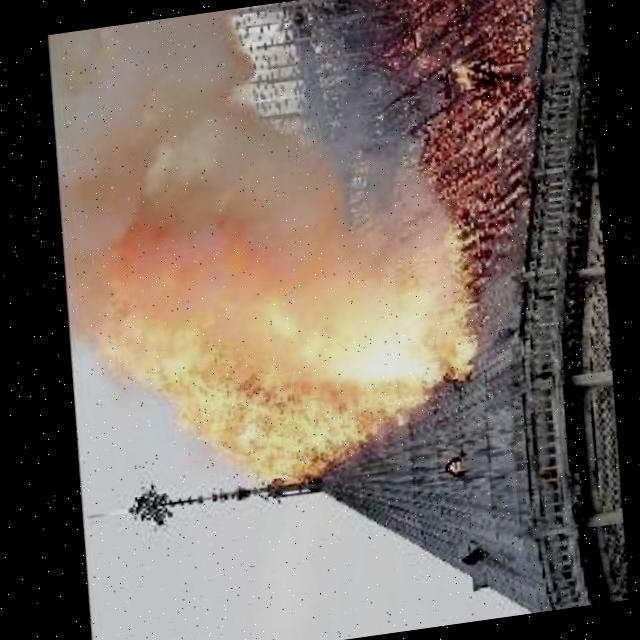fire: (66, 164, 494, 523), (377, 0, 590, 311)
